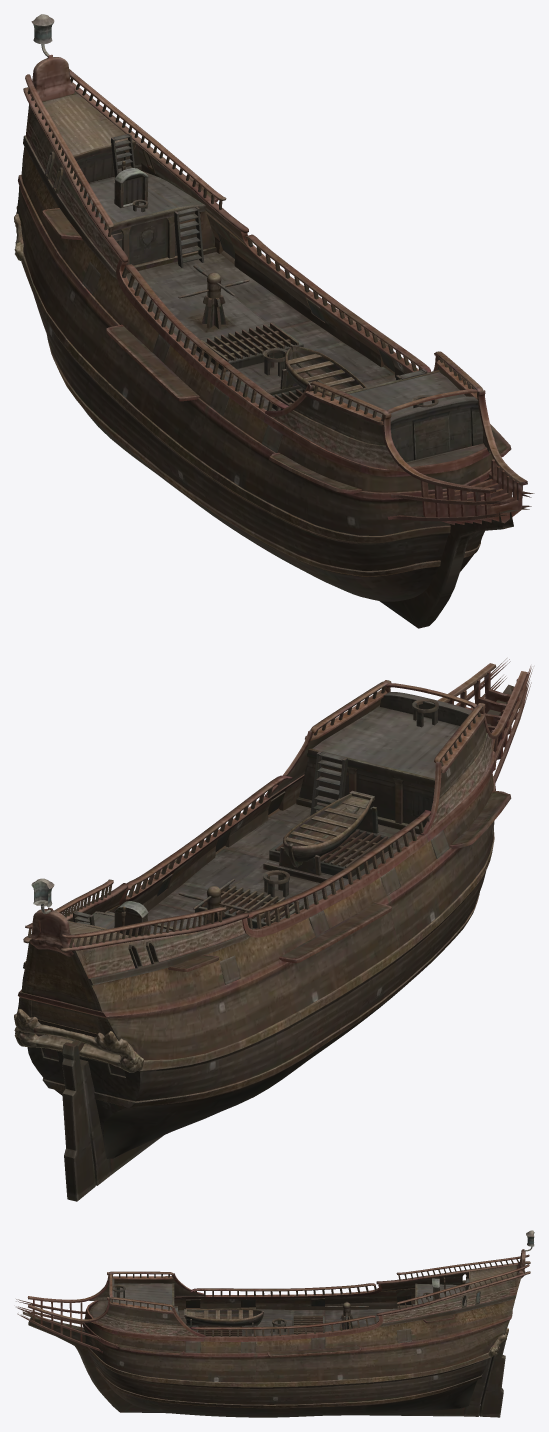
File: brig.glb
The picture shows the model from 3 angles, top to bottom: view 1: azimuth 30°, elevation 25°; view 2: azimuth 150°, elevation 25°; view 3: azimuth 270°, elevation 25°; orthographic projection. The views are drawn at different scales.
Parts seen in each view (by area): view 1: dutch_ship_medium_hull_dutch_ship_medium_hull_0; view 2: dutch_ship_medium_hull_dutch_ship_medium_hull_0; view 3: dutch_ship_medium_hull_dutch_ship_medium_hull_0.
Part boxes in pixels (x1,y1,x2,y2): dutch_ship_medium_hull_dutch_ship_medium_hull_0: (14, 14, 534, 628); dutch_ship_medium_hull_dutch_ship_medium_hull_0: (14, 658, 532, 1201); dutch_ship_medium_hull_dutch_ship_medium_hull_0: (16, 1230, 534, 1417).
Bounding box in the file's own units: 5.2 × 7.97 × 20.27.
Materials: 1 (1 with a texture image).
